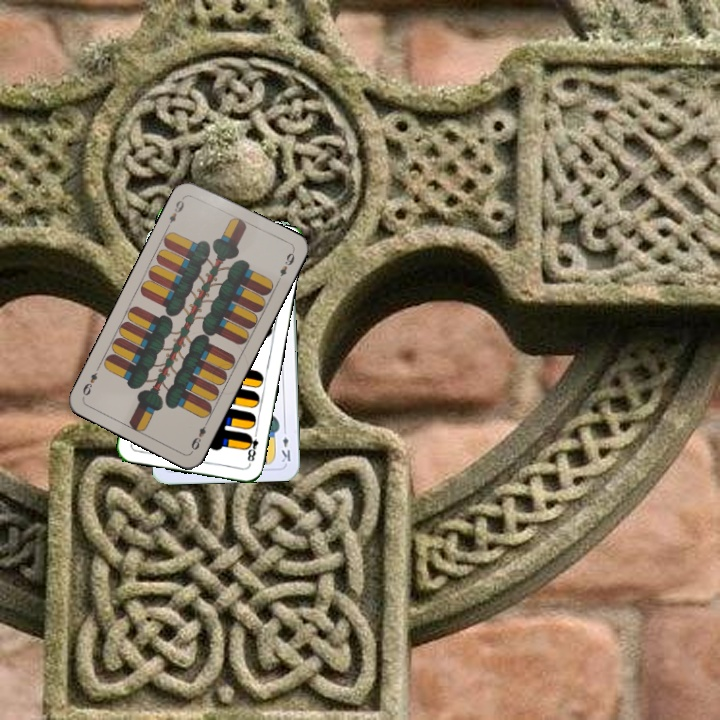E8: (242, 427, 261, 467)
E9: (187, 416, 211, 453), (163, 193, 187, 230)
EK: (278, 424, 293, 465)
